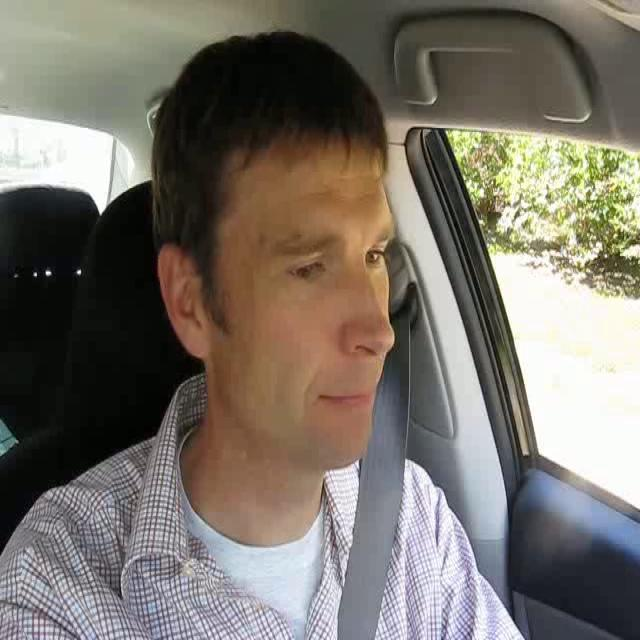close: (309, 375, 382, 417)
